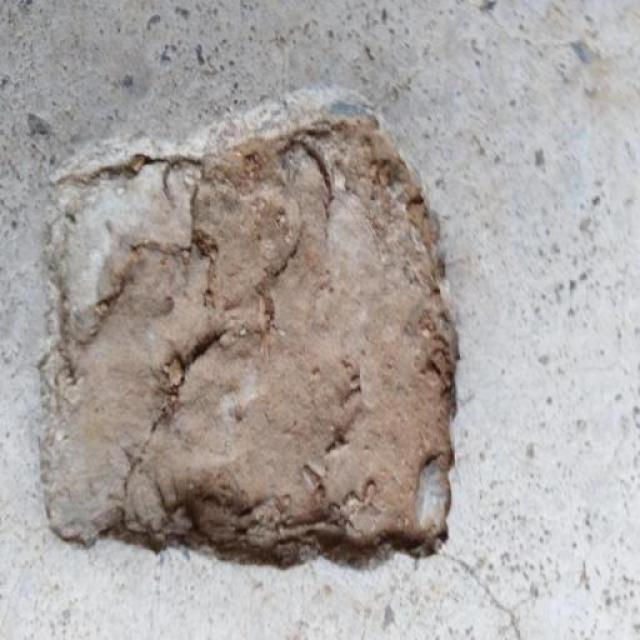D10: (35, 114, 459, 571)
